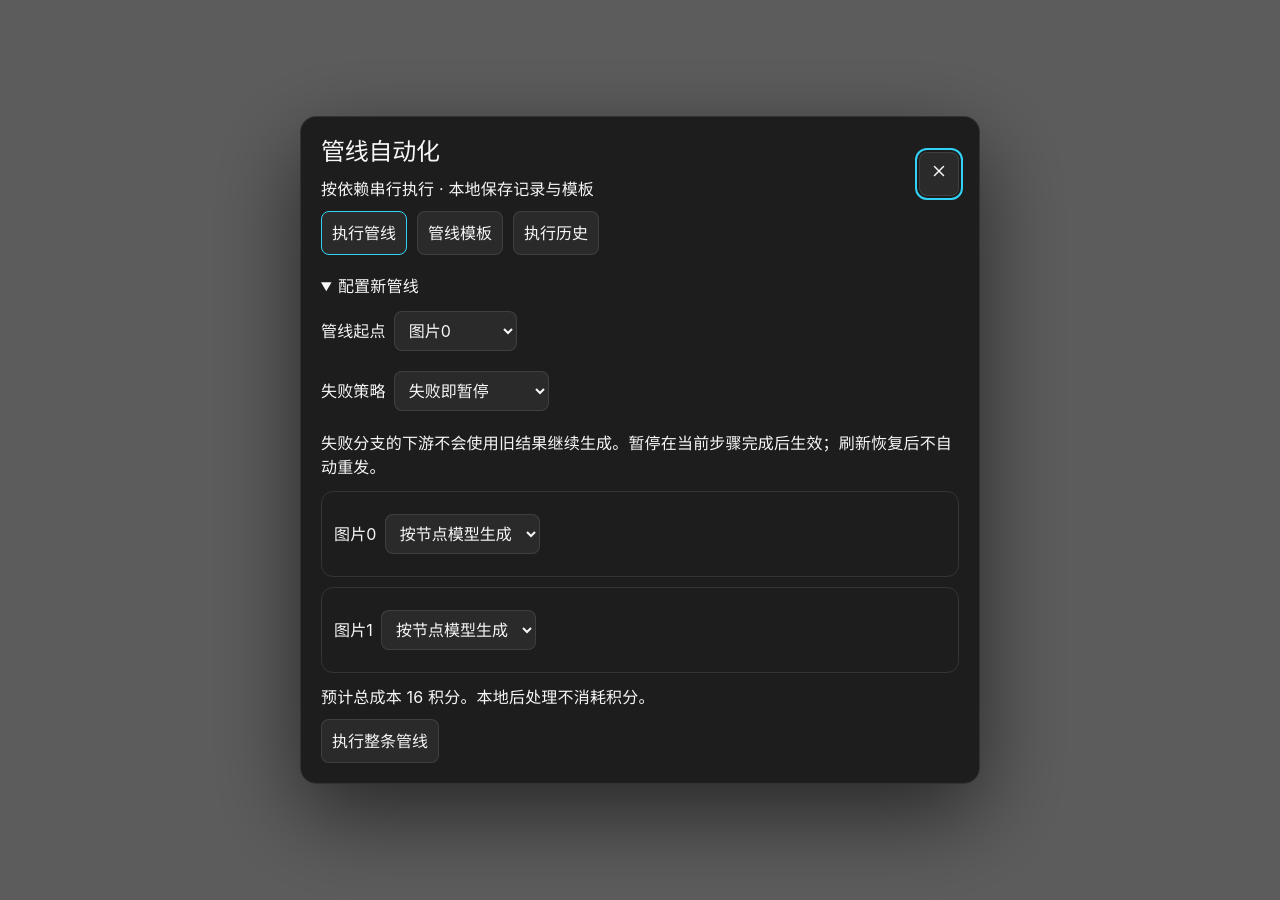
Test: continue policy confirmation explains independent branches without promising to pause
The width and height of the screenshot is (1280, 900).
Select "继续独立分支" in the dropdown labelled "失败策略": {"x": 471, "y": 391} [394,371,549,411]
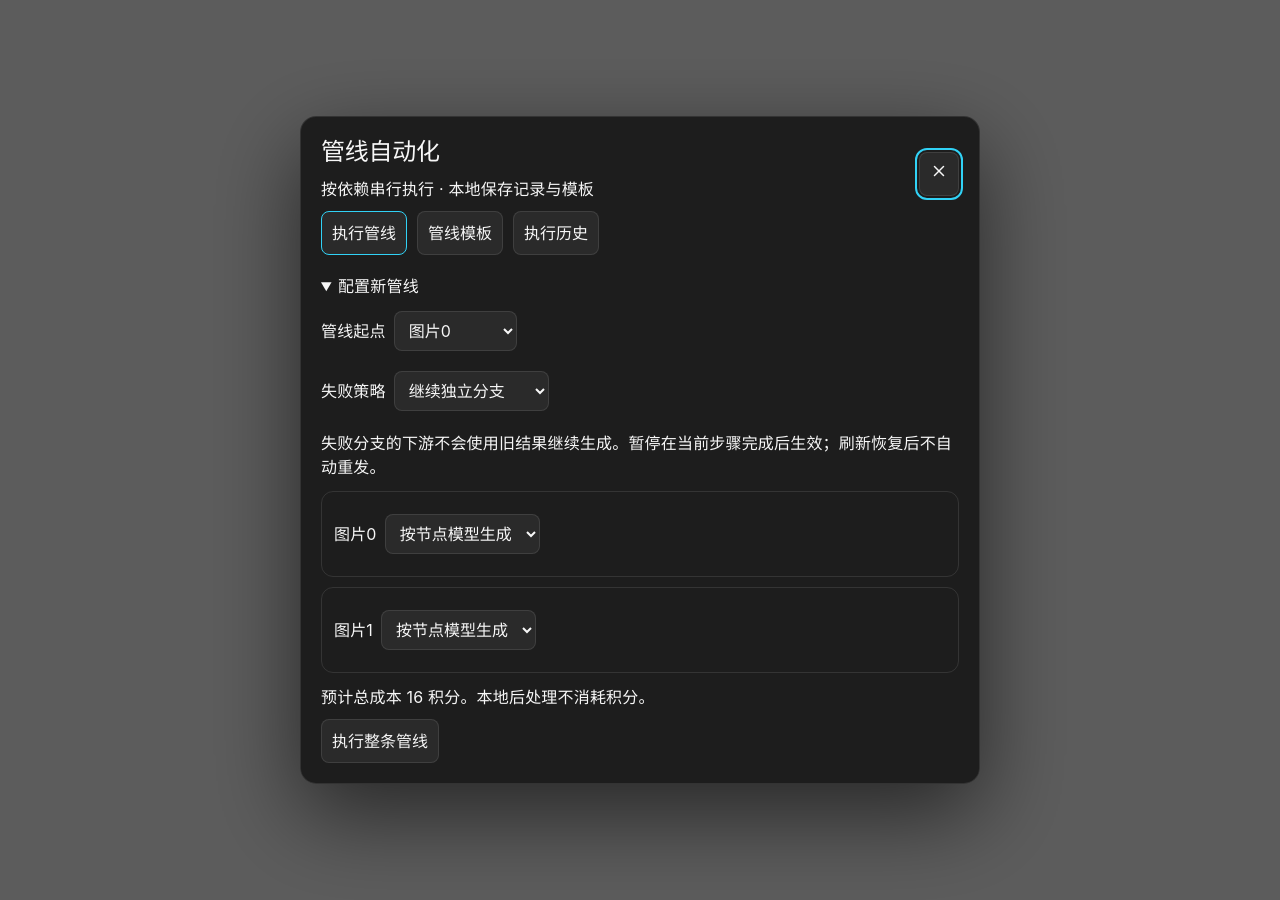
Click the button "执行整条管线": {"x": 380, "y": 741} [321,719,439,763]
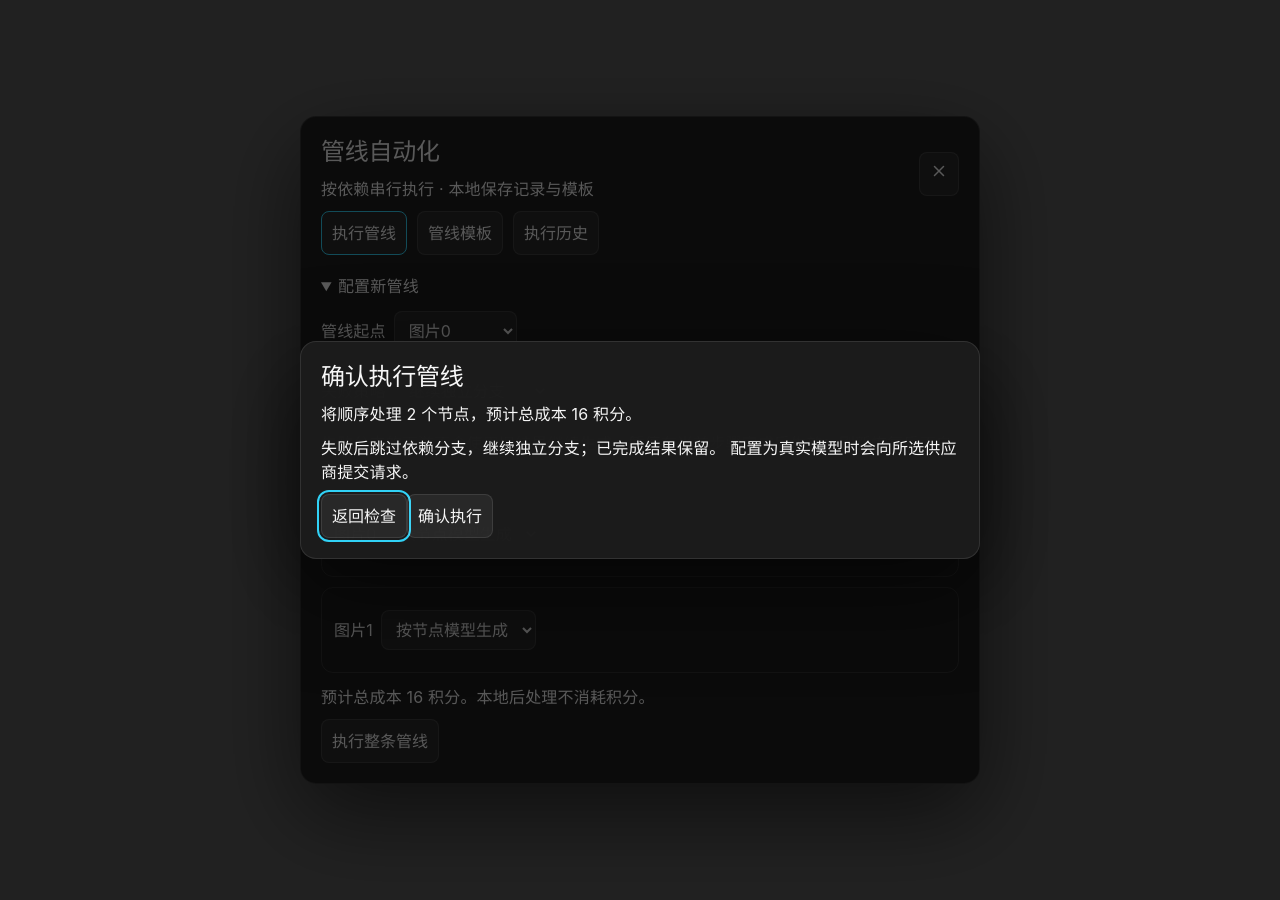
Now the text "失败后跳过依赖分支，继续独立分支；已完成结果保留。 配置为真实模型时会向所选供应商提交请求。" is shown, box [321,436,959,484]
